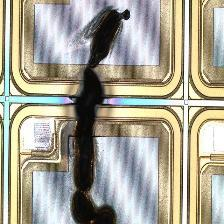PARTICLE: (58, 1, 140, 224)
